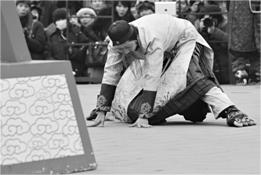down: (88, 4, 251, 135)
